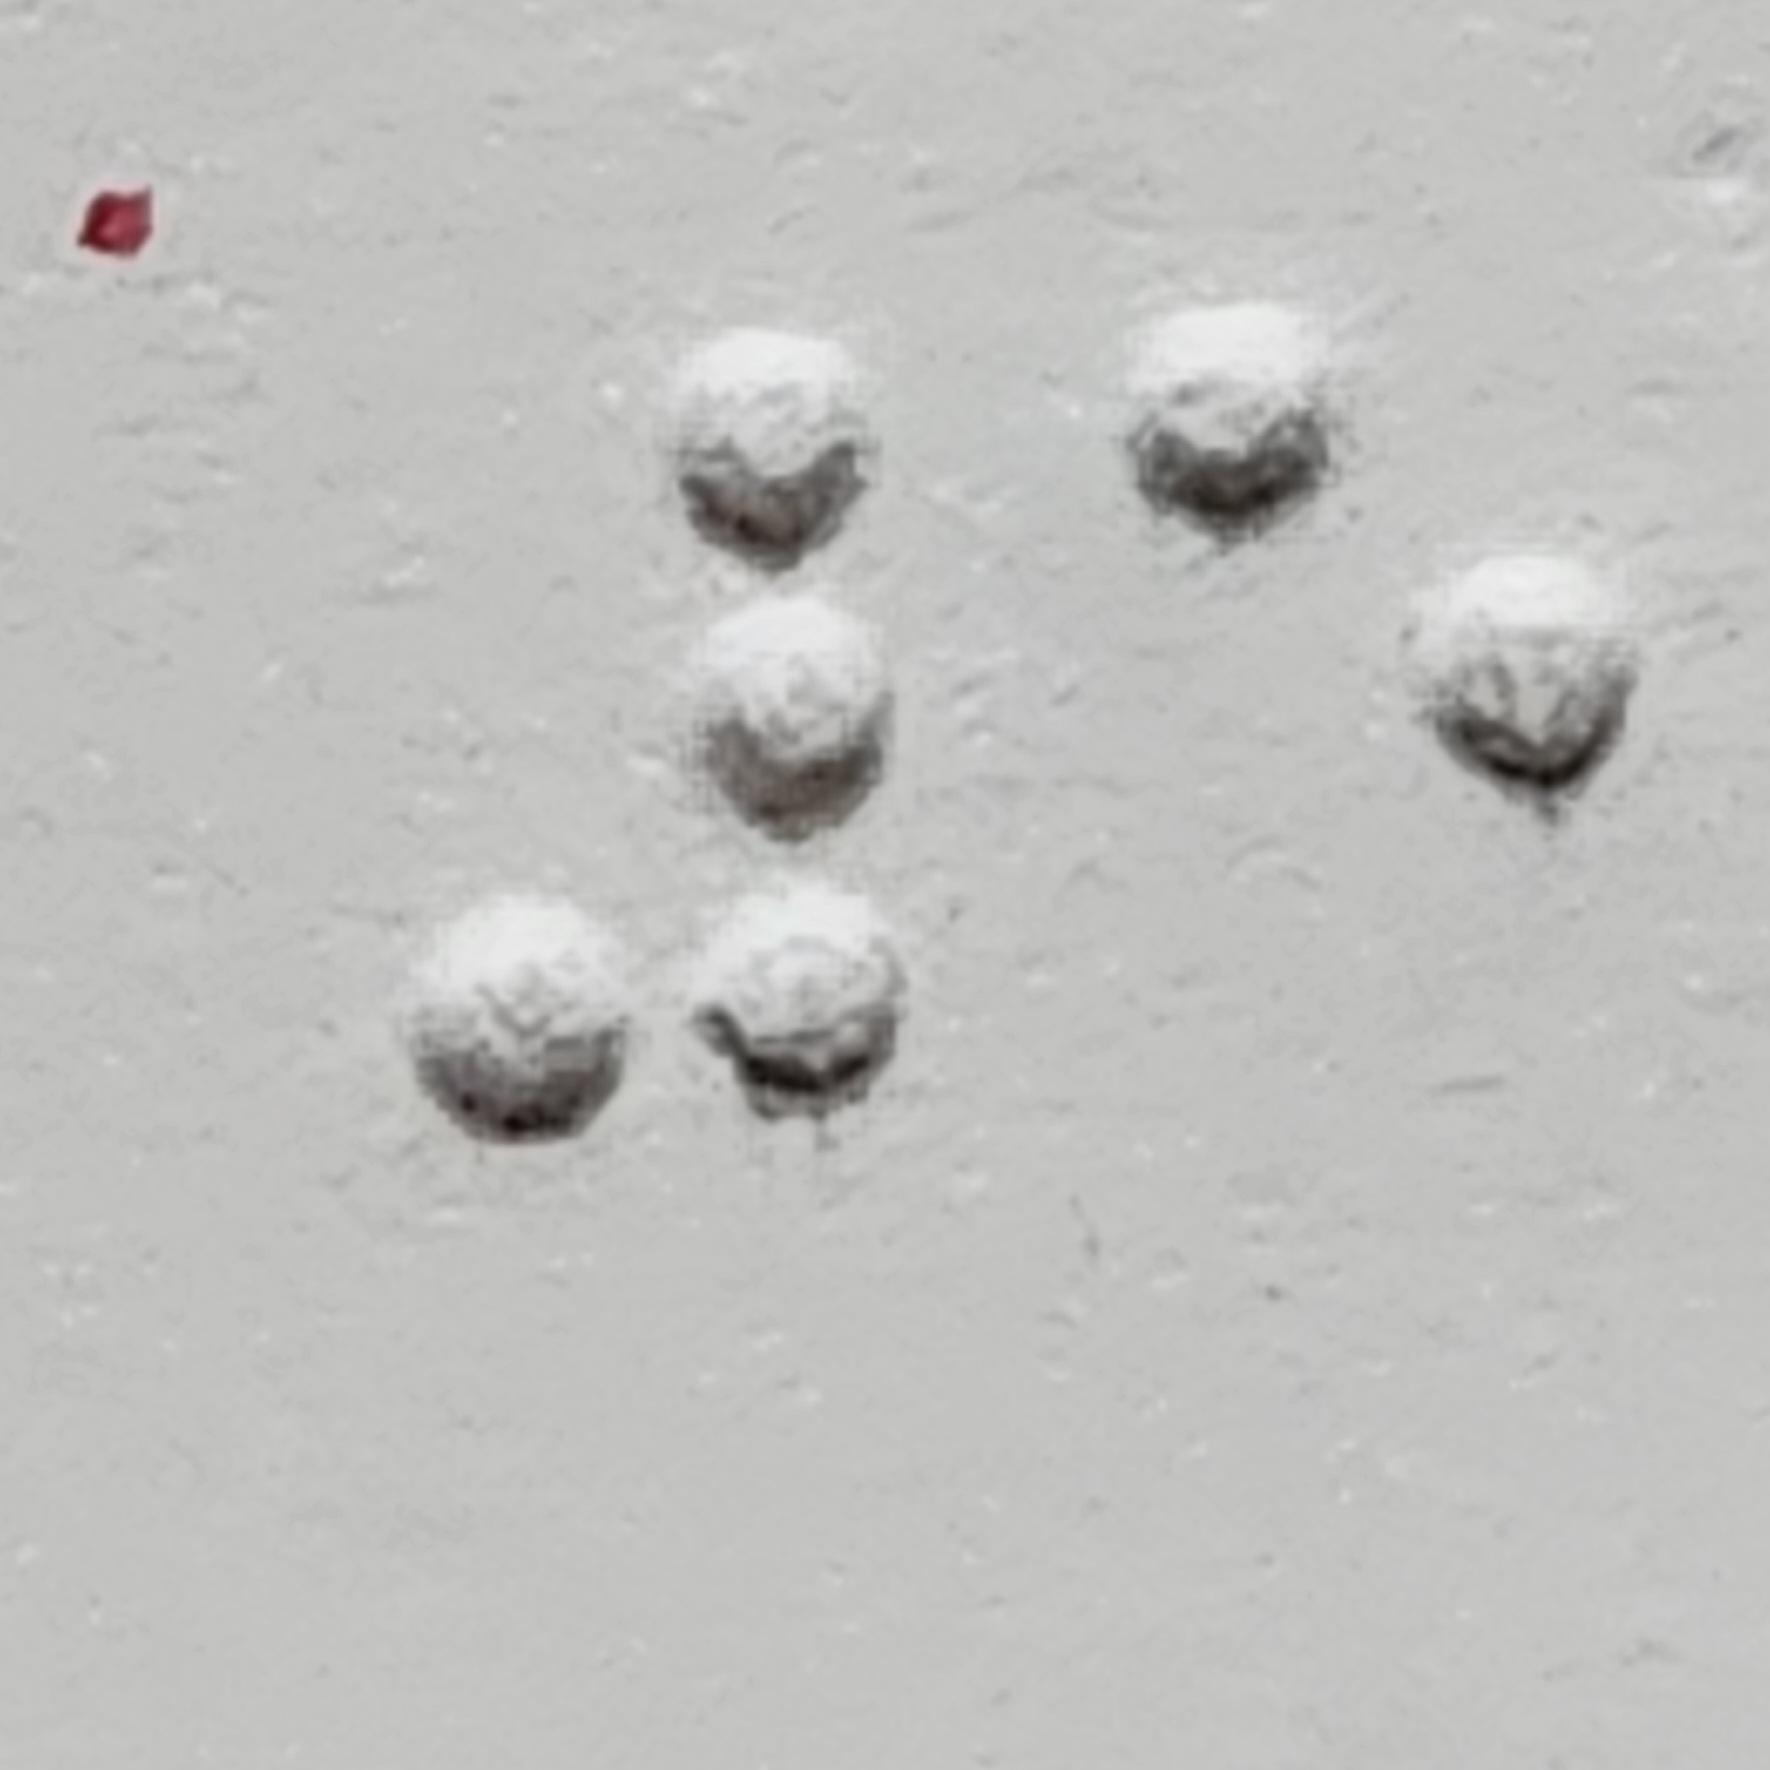digit_5: (1115, 305, 1627, 1136)
number_sign: (395, 321, 908, 1152)
